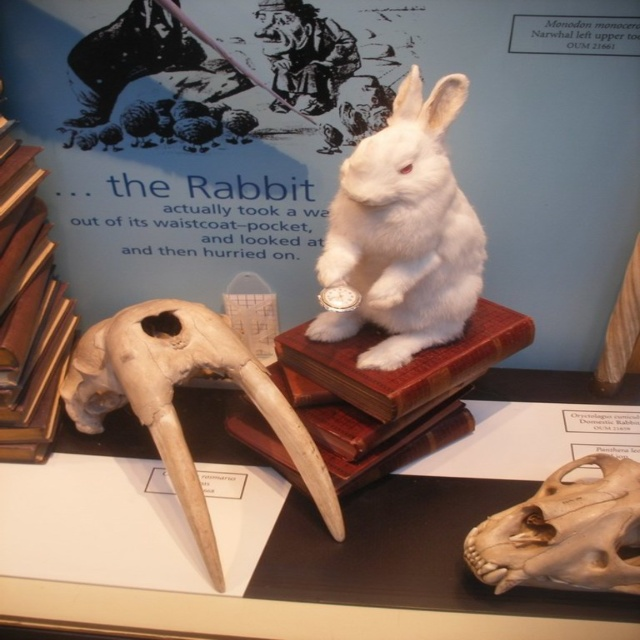Rabbit: (304, 66, 489, 375)
